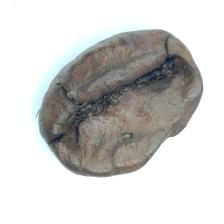NG: (51, 68, 136, 168), (137, 50, 202, 153)
